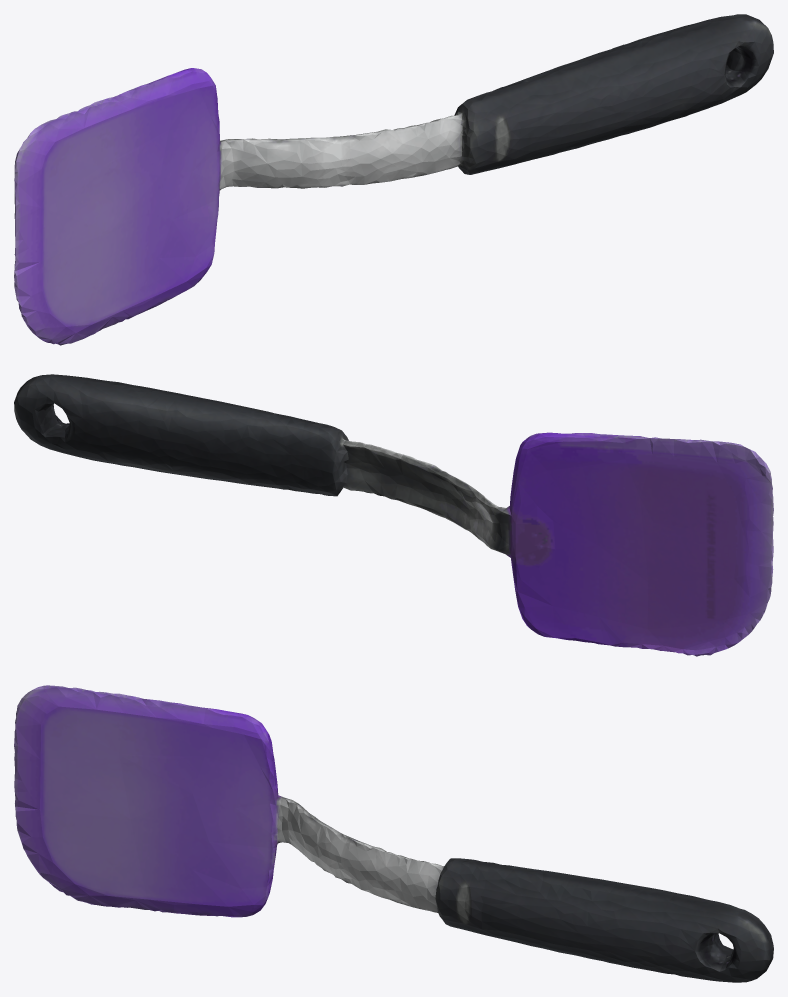
3 renders of one model, top to bottom at view 1: azimuth 30°, elevation 25°; view 2: azimuth 150°, elevation 25°; view 3: azimuth 330°, elevation 25°, orthographic. The views are drawn at different scales.
Bounding box in the file's own units: 0.2397 × 0.0679 × 0.0246.
1 material, 1 textured.
